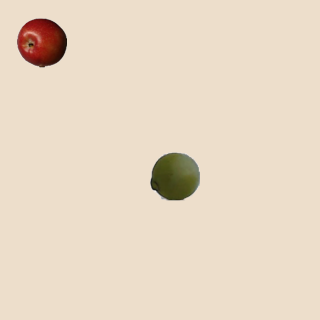Apple Braeburn: (16, 17, 66, 67)
Grape White 4: (149, 150, 199, 200)
